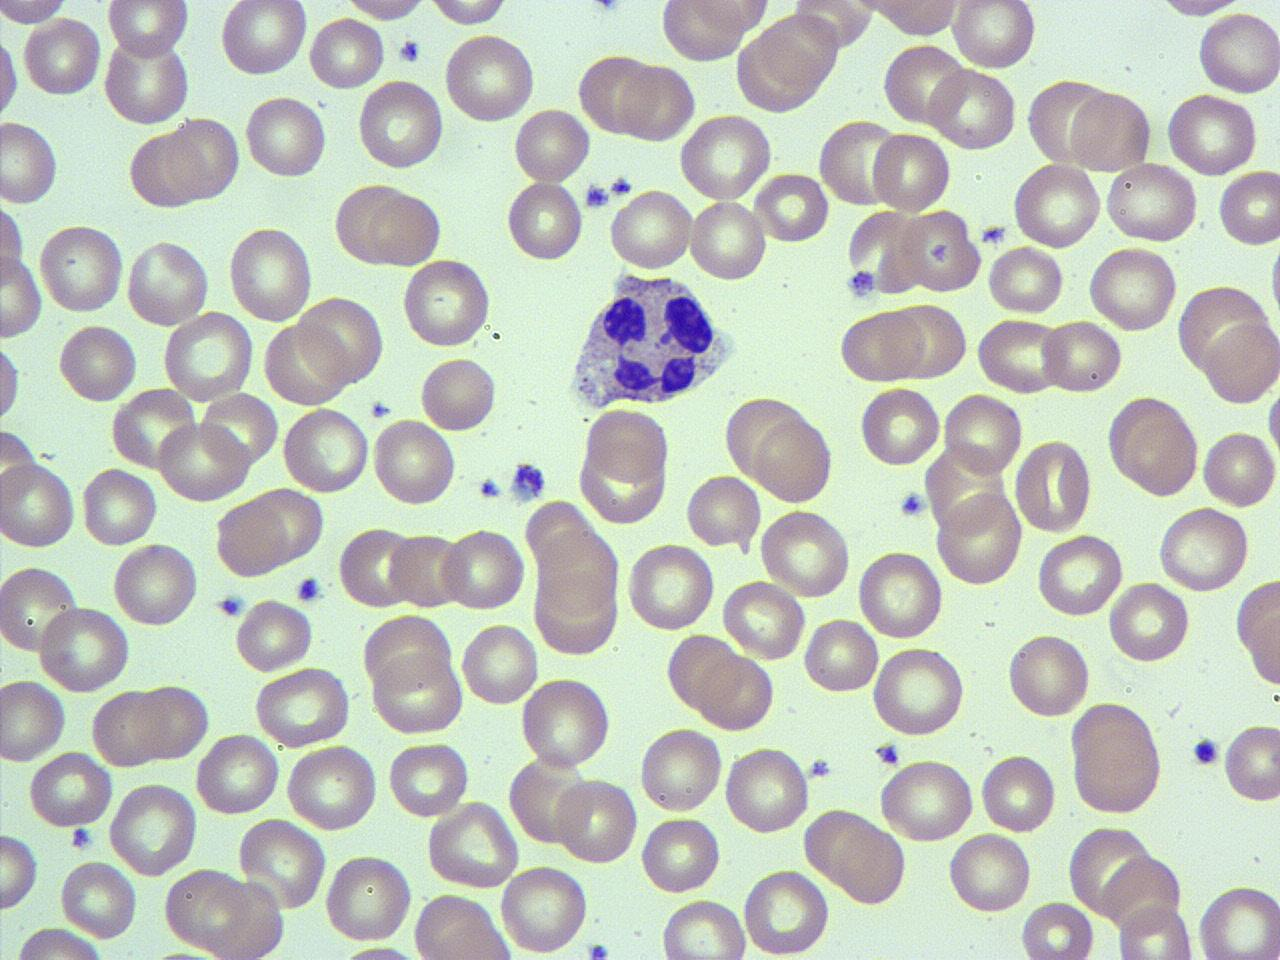Platelets: (506, 460, 548, 506), (846, 266, 878, 303), (293, 574, 324, 606), (1191, 735, 1221, 768), (898, 488, 928, 520), (216, 590, 246, 620), (873, 740, 901, 768), (68, 824, 95, 852), (582, 183, 610, 210), (583, 0, 626, 17), (397, 37, 422, 66), (804, 757, 834, 780), (978, 223, 1007, 246), (477, 476, 503, 500), (608, 176, 634, 198), (368, 399, 391, 419)
RBC: (1069, 698, 1167, 818), (1106, 395, 1202, 500), (517, 674, 614, 774), (870, 643, 968, 740), (400, 255, 496, 351), (440, 31, 538, 125), (107, 779, 200, 878), (225, 223, 316, 324), (283, 741, 381, 834), (676, 112, 775, 204), (876, 756, 977, 846), (497, 862, 593, 956), (160, 310, 256, 404), (425, 797, 521, 891), (237, 815, 328, 913), (934, 490, 1024, 589), (758, 505, 852, 599), (624, 539, 717, 634), (855, 546, 945, 644), (1154, 505, 1252, 595), (35, 604, 132, 694), (1008, 160, 1105, 250), (1164, 89, 1262, 178), (321, 852, 415, 944), (1085, 243, 1179, 335), (35, 221, 126, 316), (280, 402, 371, 497), (720, 390, 808, 488), (1102, 158, 1200, 245), (722, 742, 812, 836), (638, 722, 726, 818), (110, 538, 201, 630), (370, 417, 460, 510), (356, 77, 444, 172), (252, 666, 353, 748), (740, 866, 832, 956), (554, 772, 640, 868), (299, 293, 387, 386), (101, 38, 191, 128), (361, 610, 455, 696), (156, 418, 250, 504), (1194, 5, 1280, 99), (1006, 628, 1092, 722), (262, 317, 350, 408), (124, 237, 211, 329), (242, 91, 329, 183), (369, 653, 464, 737), (530, 571, 621, 658), (926, 65, 1018, 151), (1013, 436, 1093, 534), (946, 828, 1034, 917), (441, 524, 528, 614), (940, 388, 1024, 481), (802, 802, 888, 892), (1067, 85, 1153, 175), (1034, 534, 1126, 618), (161, 865, 248, 953), (880, 39, 966, 127), (816, 116, 896, 210), (0, 456, 78, 552), (193, 730, 280, 816), (606, 187, 694, 272), (754, 414, 835, 506), (217, 0, 310, 80), (110, 385, 196, 471), (720, 578, 808, 662), (334, 522, 418, 609), (869, 128, 953, 215), (332, 179, 414, 268), (687, 196, 769, 285), (0, 562, 77, 656), (576, 50, 658, 138), (974, 316, 1065, 395), (57, 320, 140, 406), (58, 854, 139, 942), (21, 12, 102, 100), (858, 384, 943, 467), (386, 738, 472, 820), (900, 208, 982, 293), (511, 103, 593, 188), (585, 406, 672, 486), (504, 177, 584, 264), (978, 749, 1058, 836), (459, 620, 538, 708), (410, 892, 512, 960), (29, 748, 113, 830), (1106, 580, 1190, 662), (639, 814, 723, 896), (197, 388, 282, 469), (79, 463, 160, 548), (1039, 316, 1125, 396), (948, 0, 1039, 74), (1199, 425, 1277, 511), (836, 308, 924, 384), (696, 651, 778, 732), (759, 9, 841, 89), (1103, 852, 1183, 934), (417, 354, 499, 434), (618, 60, 697, 143), (1195, 882, 1279, 960), (832, 822, 909, 907), (890, 300, 971, 380), (306, 12, 386, 93), (1204, 319, 1280, 404), (90, 686, 165, 770), (367, 189, 446, 268), (802, 616, 881, 695), (664, 630, 740, 712), (134, 680, 210, 762), (214, 498, 290, 580), (685, 472, 761, 554), (656, 894, 750, 960), (168, 114, 240, 200), (0, 676, 70, 764), (127, 128, 202, 210), (390, 528, 464, 611), (233, 598, 313, 674), (251, 485, 327, 564), (985, 243, 1065, 317), (755, 170, 830, 246), (0, 117, 61, 208), (658, 1, 743, 64), (1216, 167, 1280, 247), (103, 0, 191, 58), (1019, 897, 1097, 960), (1222, 721, 1280, 804), (1236, 576, 1280, 684), (1113, 902, 1195, 958), (0, 252, 45, 339), (863, 0, 966, 38), (8, 924, 112, 960), (0, 828, 41, 914), (684, 0, 773, 36), (426, 0, 513, 29), (340, 0, 438, 25), (1147, 0, 1253, 22), (0, 25, 21, 127), (0, 336, 22, 432), (0, 0, 74, 27)
WBC: (563, 267, 740, 414)
